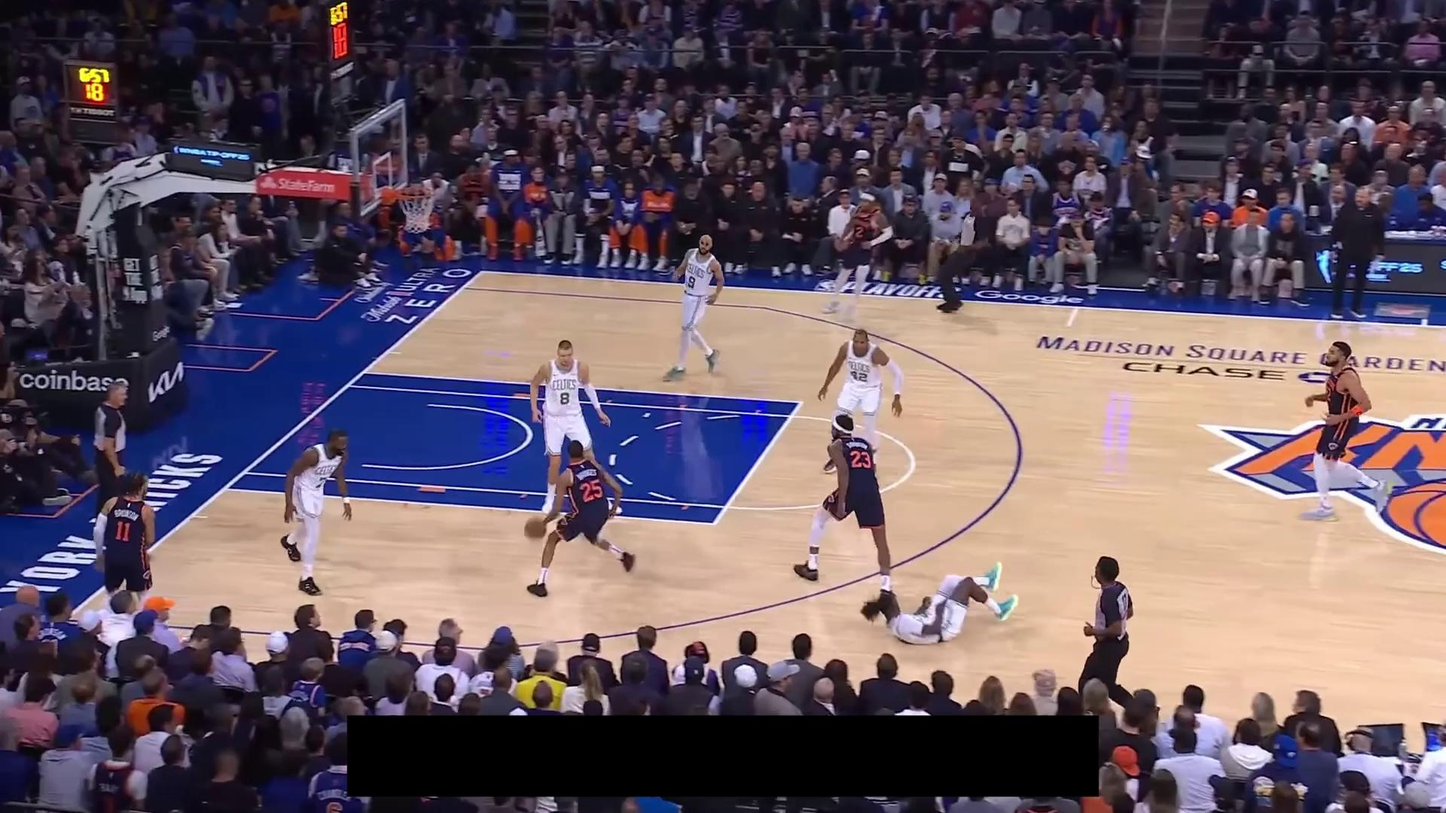ball: (524, 517, 547, 540)
number: (580, 479, 603, 502), (850, 450, 871, 470), (115, 520, 131, 543), (850, 369, 869, 384), (559, 391, 571, 406), (315, 475, 328, 488), (853, 225, 865, 239), (687, 275, 697, 289)
player: (792, 413, 894, 613), (1301, 340, 1393, 522), (528, 336, 613, 517), (860, 560, 1021, 647), (818, 327, 906, 476), (279, 425, 354, 598), (819, 190, 896, 320), (661, 233, 727, 383), (91, 469, 157, 616)
player-in-possession: (526, 440, 636, 598)
referee: (1078, 556, 1136, 712), (935, 193, 990, 313), (92, 381, 132, 544)
rim: (394, 185, 435, 200)
